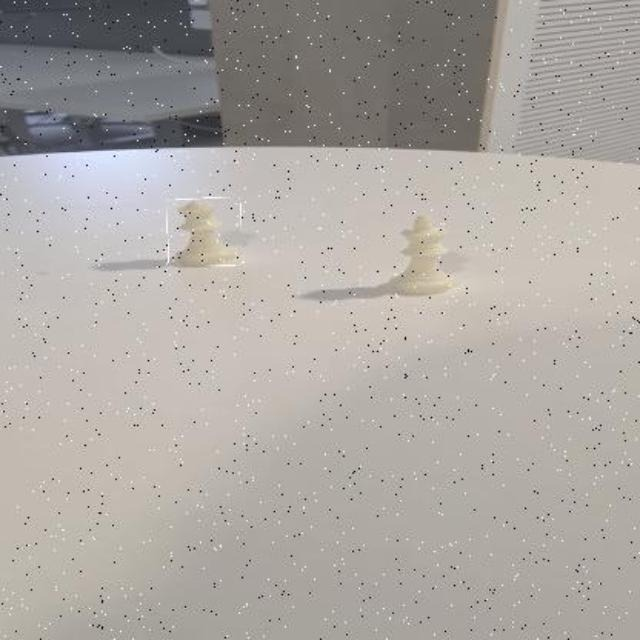white-king: (391, 213, 457, 296)
white-queen: (167, 198, 242, 267)
